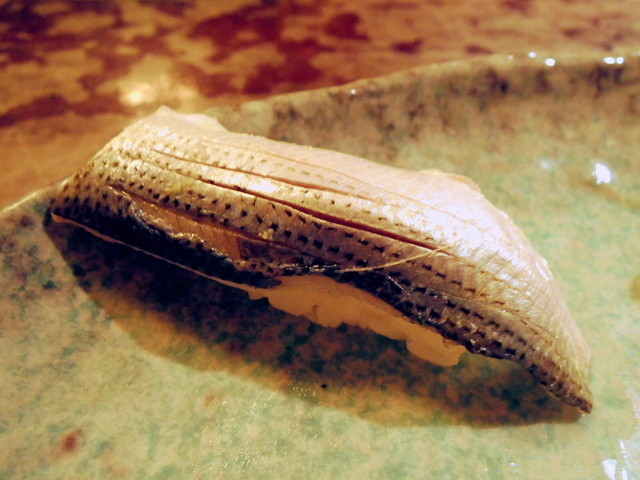spotted-shad: (45, 103, 600, 426)
